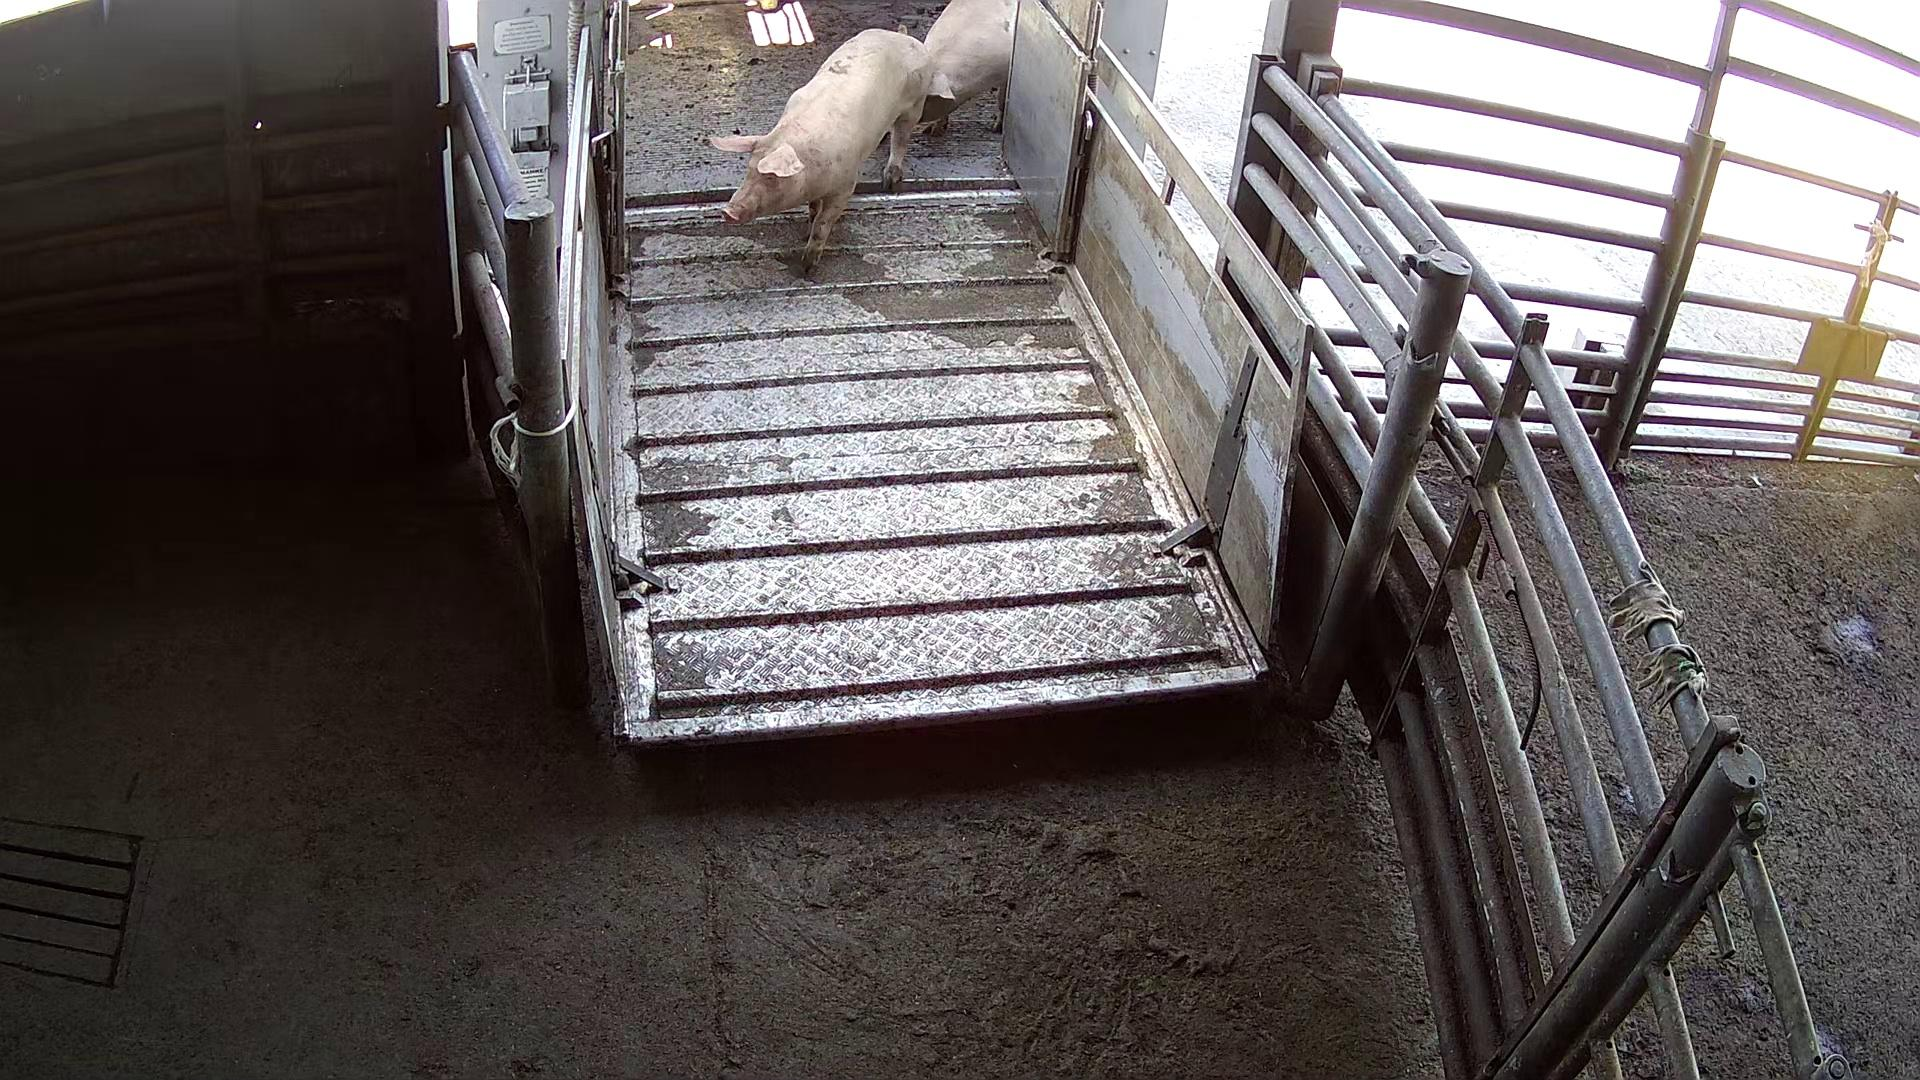Pig: (709, 26, 938, 272), (919, 0, 1018, 133)
